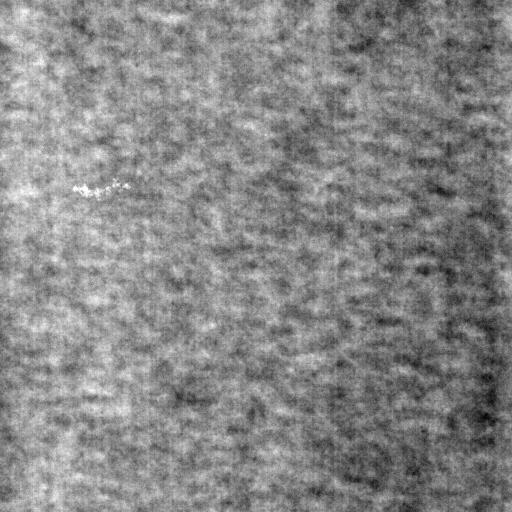DefectTypeA: (75, 178, 131, 200)
